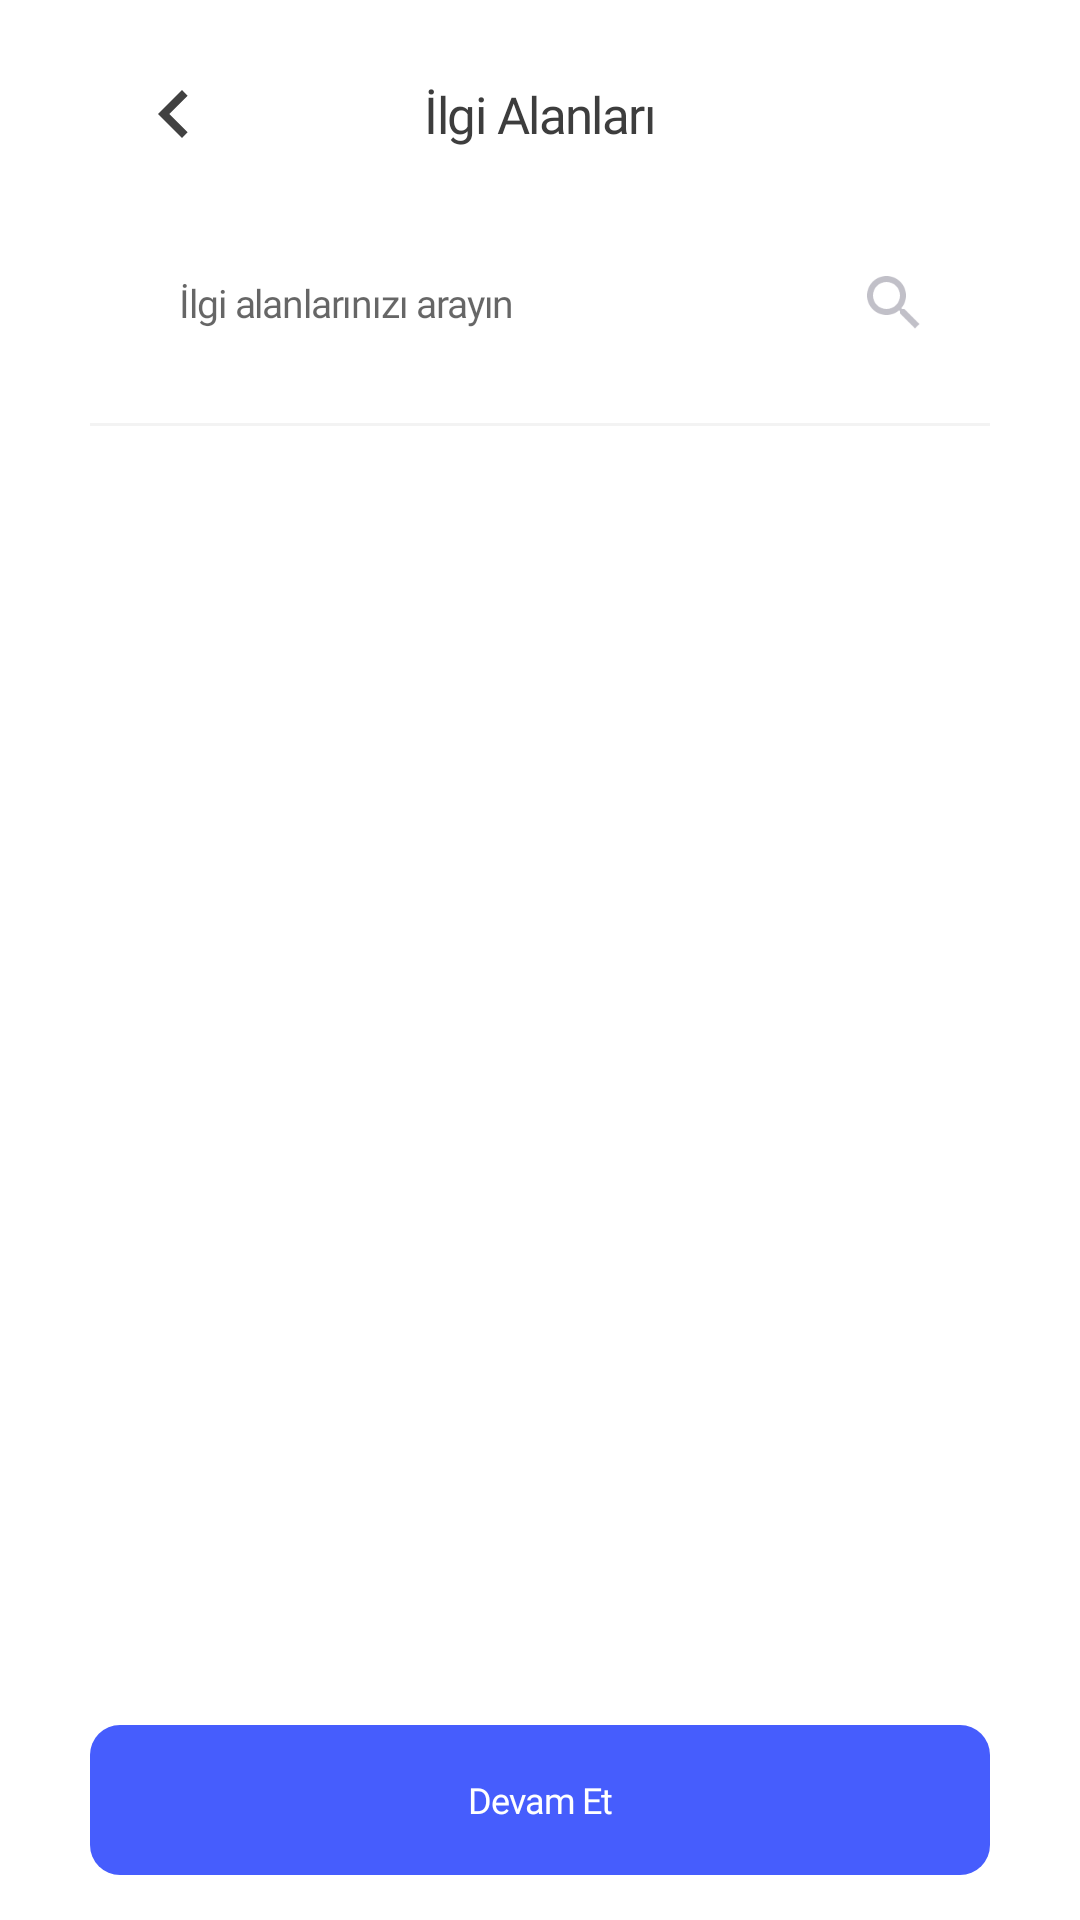

Where icons sit on this 1080 x 1920 app screen, as (x1, y1, x2, y2):
chevron left: (158, 90, 188, 138)
